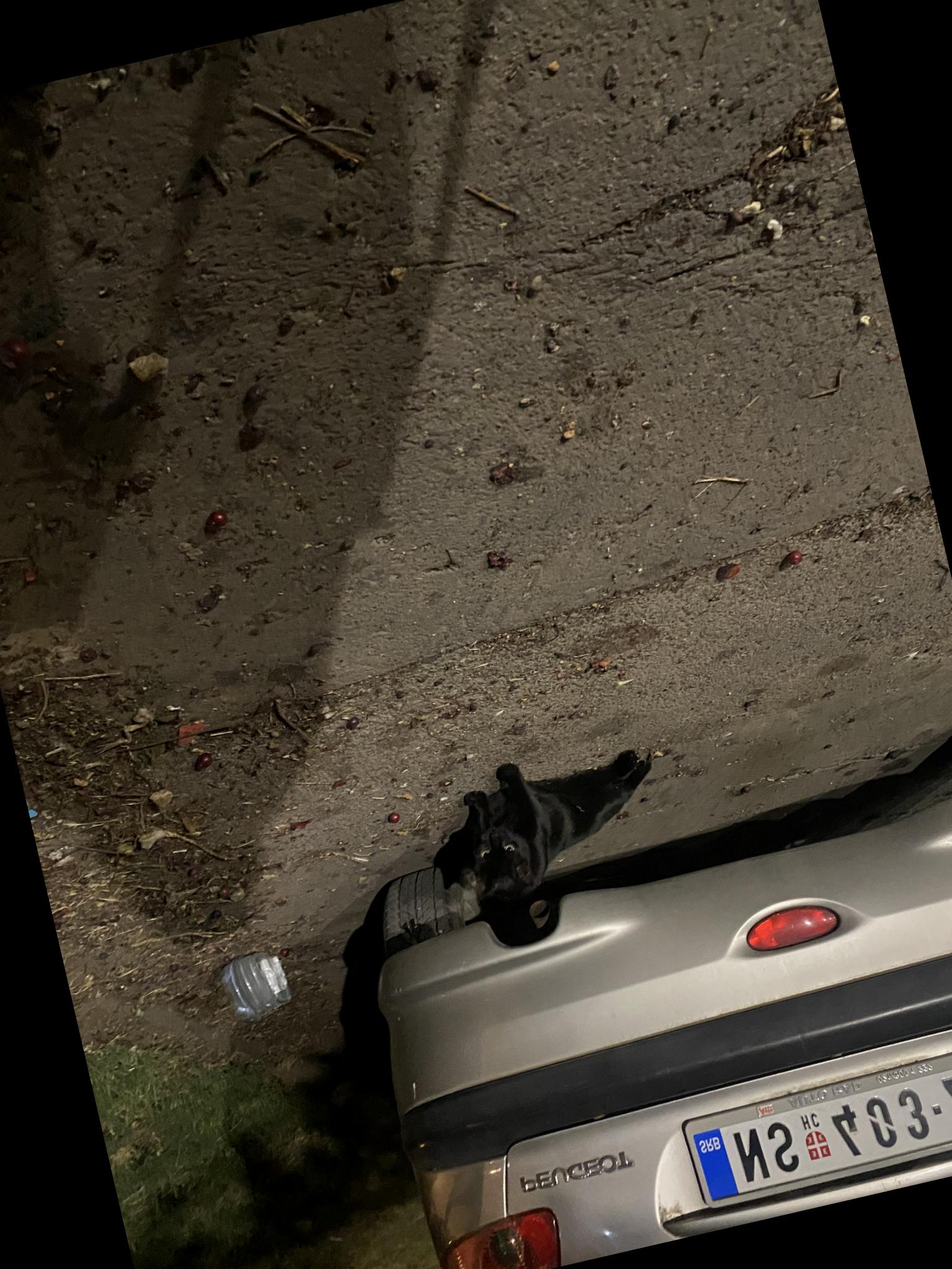macka: (447, 731, 675, 906)
